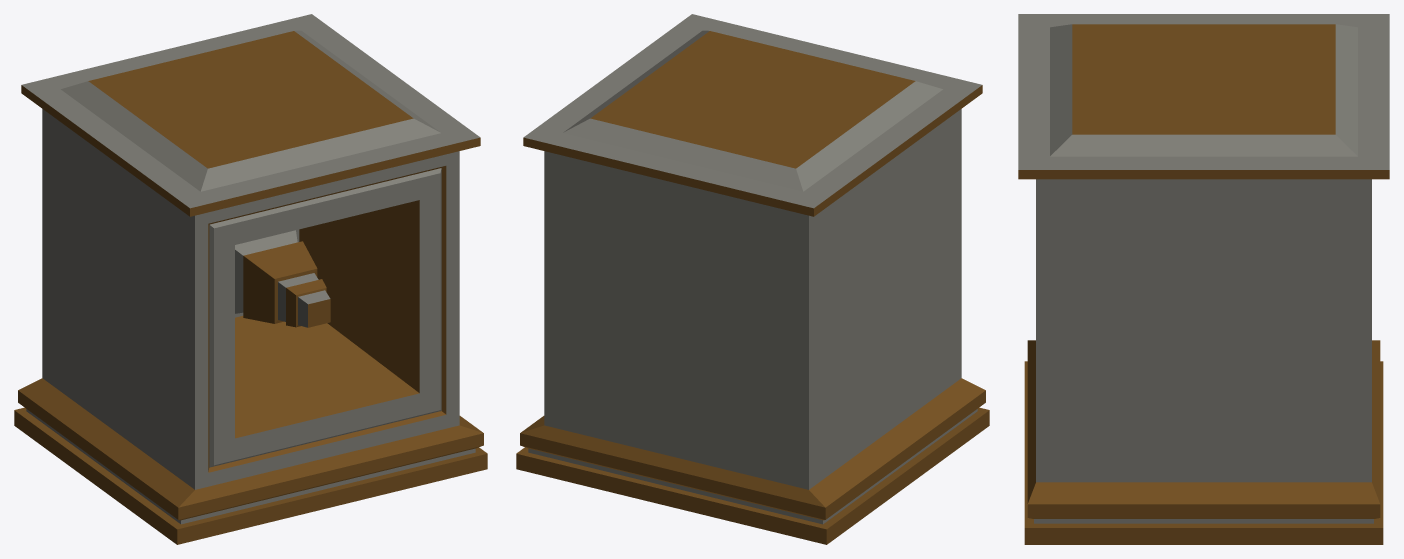
Rendered from laserSender.fbx.
3 renders of one model, left to right at view 1: azimuth 30°, elevation 25°; view 2: azimuth 150°, elevation 25°; view 3: azimuth 270°, elevation 25°, orthographic. The views are drawn at different scales.
Parts seen in each view (by area): view 1: Laser Sender; view 2: Laser Sender; view 3: Laser Sender.
Boxes of the visible parts, left/top/right/bottom form: Laser Sender: left=14, top=14, right=487, bottom=544; Laser Sender: left=516, top=14, right=989, bottom=544; Laser Sender: left=1018, top=14, right=1389, bottom=544.
Bounding box in the file's own units: 95.23 × 102 × 89.61.
